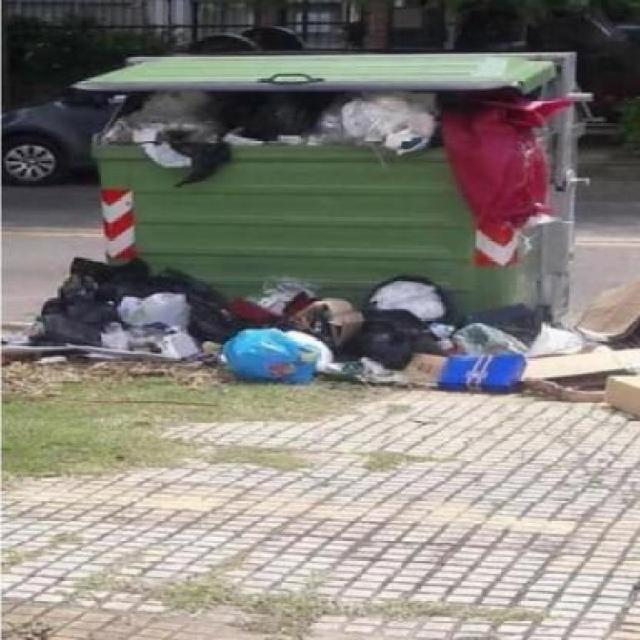garbage: (20, 252, 639, 413), (93, 91, 576, 270)
